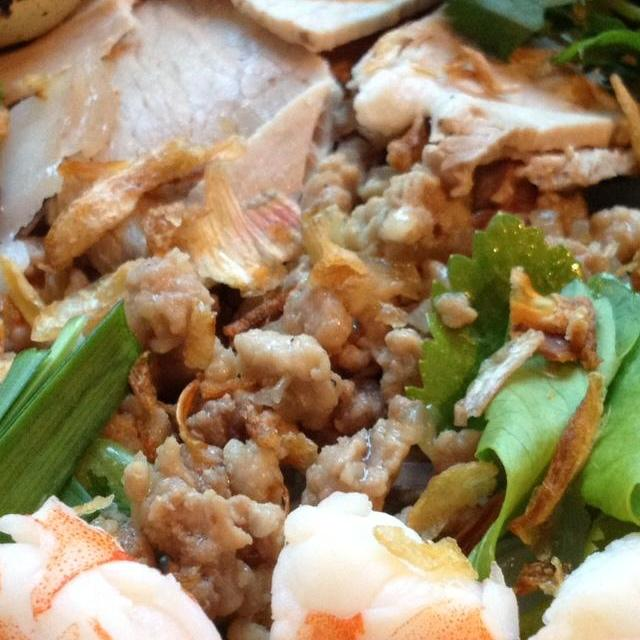thit bam: (17, 124, 640, 640)
thit heo: (40, 0, 358, 297), (335, 0, 640, 198), (106, 0, 531, 61)
tom: (138, 480, 584, 640), (0, 484, 268, 640)
